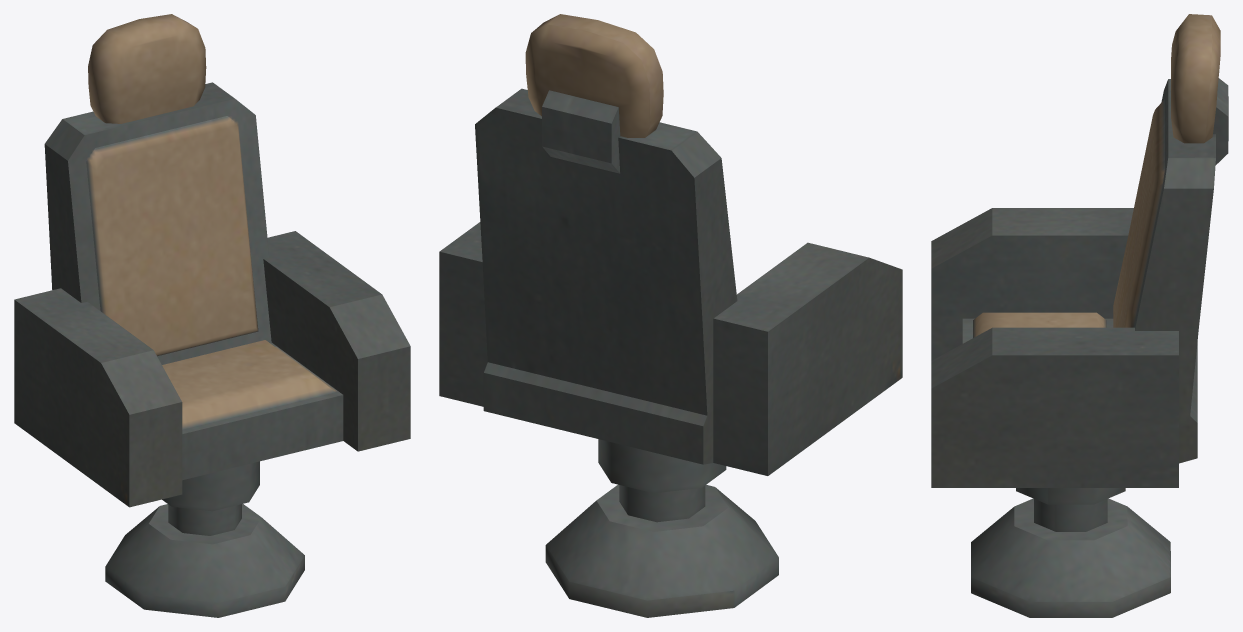
The model's file is CaptainsChair.fbx.
3 renders of one model, left to right at view 1: azimuth 30°, elevation 25°; view 2: azimuth 150°, elevation 25°; view 3: azimuth 270°, elevation 25°, orthographic. The views are drawn at different scales.
Parts seen in each view (by area): view 1: Captain_Seat, Captain_Seat_Pivot; view 2: Captain_Seat, Captain_Seat_Pivot; view 3: Captain_Seat, Captain_Seat_Pivot.
Boxes of the visible parts, bbox=[...] form: Captain_Seat: bbox=[14, 14, 410, 507]; Captain_Seat_Pivot: bbox=[105, 461, 304, 617]; Captain_Seat: bbox=[439, 14, 902, 475]; Captain_Seat_Pivot: bbox=[545, 439, 778, 617]; Captain_Seat: bbox=[931, 14, 1228, 487]; Captain_Seat_Pivot: bbox=[971, 488, 1170, 617].
Size of the model in its own units: 86.82 by 150 by 73.93.
Materials: 1 (1 with a texture image).
